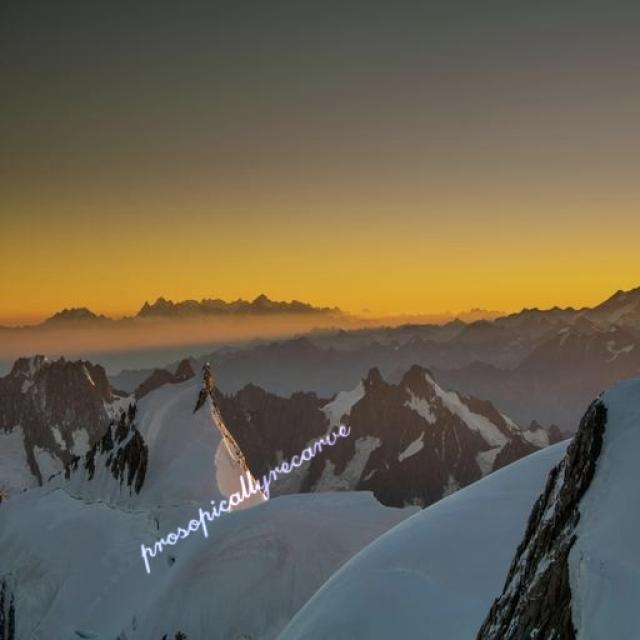watermark: (137, 406, 352, 566)
